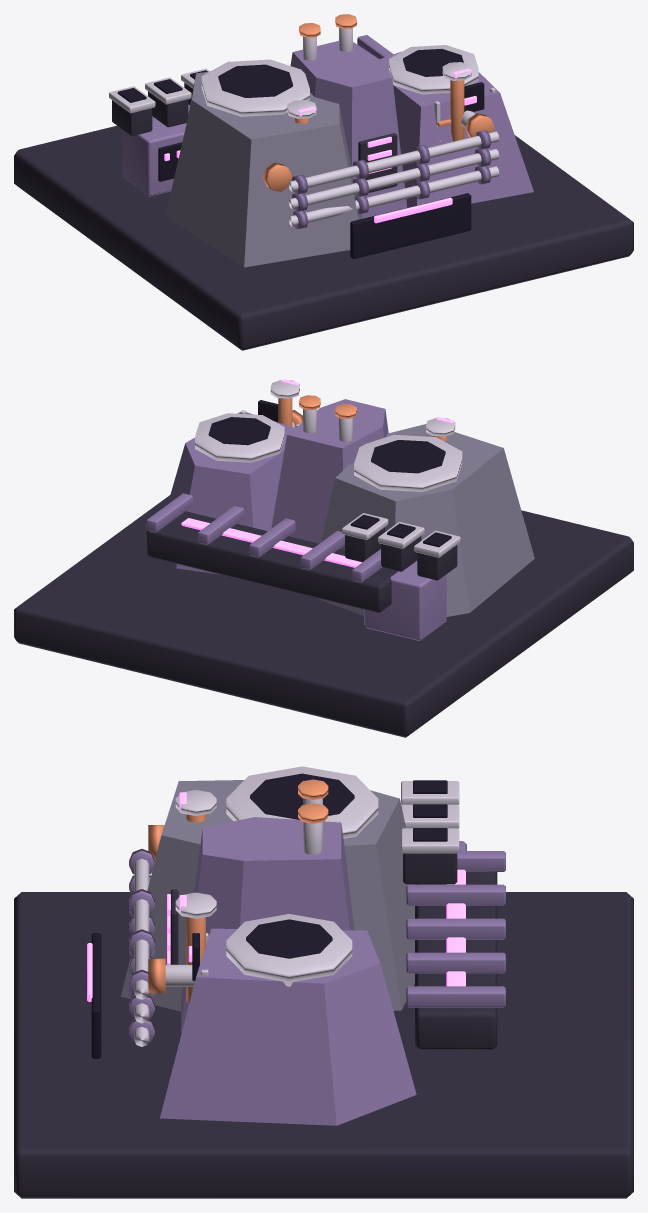
Rendered from vesper-refinery.glb.
The picture shows the model from 3 angles, top to bottom: view 1: azimuth 30°, elevation 25°; view 2: azimuth 150°, elevation 25°; view 3: azimuth 270°, elevation 25°; orthographic projection. The views are drawn at different scales.
Visible parts, largest first — view 1: Vesper refinery skid, Crucible one, Crucible two, Crucible armored rim, Crucible dark opening, Separator exhaust cap, Violet process gauge; view 2: Vesper refinery skid, Crucible two, Crucible one, Crucible armored rim, Crucible dark opening, Violet process gauge, Separator exhaust cap; view 3: Vesper refinery skid, Crucible two, Crucible armored rim, Crucible one, Crucible dark opening, Separator exhaust cap, Violet process gauge.
Boxes of the visible parts, x1,y1,x2,y2 form: Vesper refinery skid: (14,83,633,350); Crucible one: (165,71,362,267); Crucible two: (122,35,533,228); Crucible armored rim: (109,28,499,226); Crucible dark opening: (117,49,484,259); Separator exhaust cap: (262,14,494,191); Violet process gauge: (164,68,476,223); Vesper refinery skid: (14,495,633,737); Crucible two: (146,399,446,640); Crucible one: (315,424,534,616); Crucible armored rim: (195,380,462,557); Crucible dark opening: (208,400,451,547); Violet process gauge: (181,379,454,567); Separator exhaust cap: (278,395,447,440); Vesper refinery skid: (14,853,633,1198); Crucible two: (129,817,505,1125); Crucible armored rim: (134,766,459,1046); Crucible one: (121,780,414,1011); Crucible dark opening: (91,773,447,1058); Separator exhaust cap: (148,779,328,1003); Violet process gauge: (87,792,465,1001).
Size of the model in its own units: 2.86 by 1.39 by 2.86.
